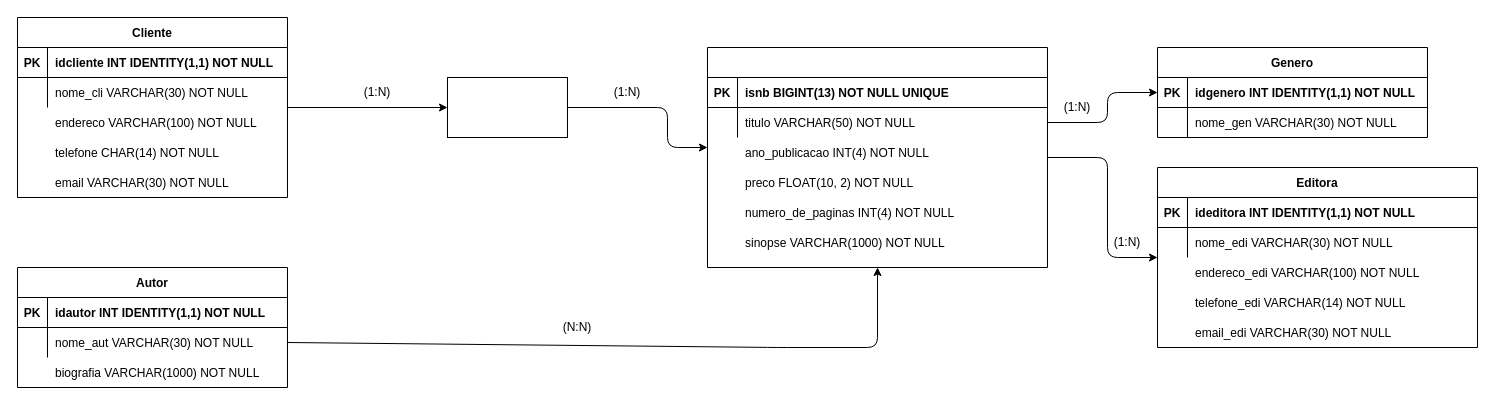
This 1495x405 diagram has some shape labels left out. Here are the shapes that lost their labels. From the top down, the box of each, then its label:
(446, 76, 568, 138): Pedido
(706, 46, 1048, 268): Livro
